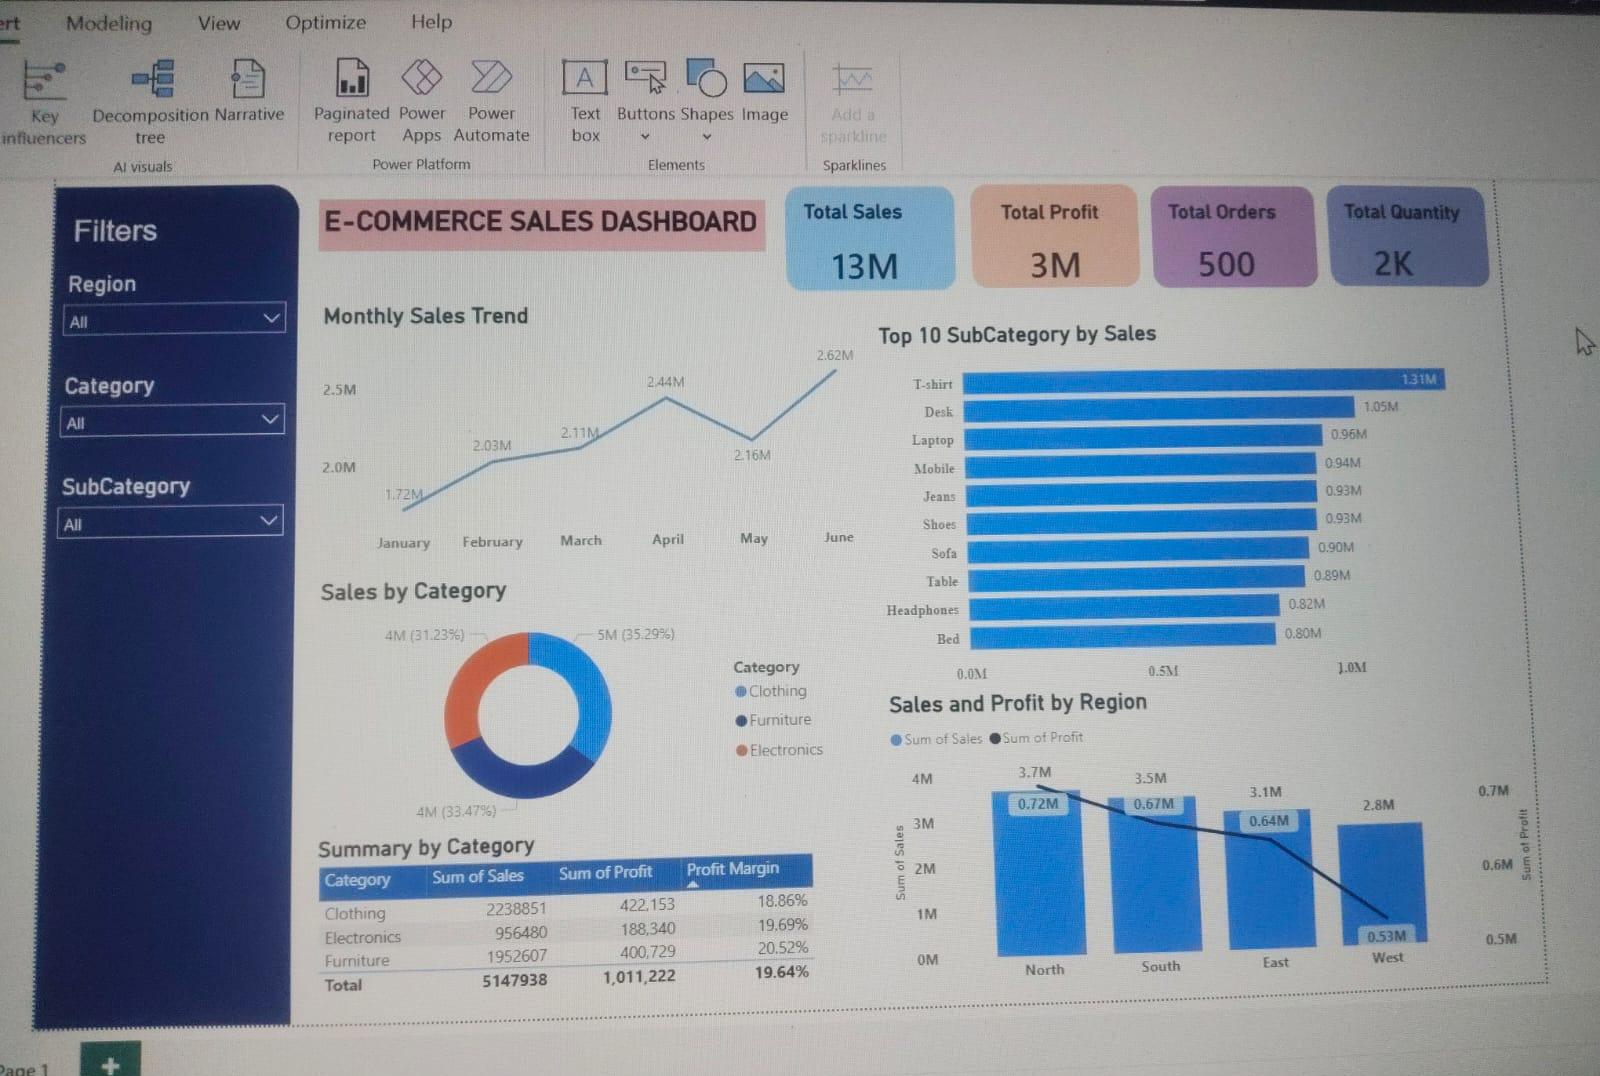

The dashboard page shown, as its layout file describes it:
{"tool":"powerbi","page":{"name":"Page 1","canvas":[1280,720],"ordinal":0},"visuals":[{"type":"shape","box":[0,8.5,211.1,711.2],"z":0},{"type":"textbox","box":[11.3,24.1,117.6,70.8],"z":1000},{"type":"slicer","fields":{"Values":["Ecommerce_Large_Dataset.Region"]},"box":[0,79.3,211.1,70.8],"z":2000},{"type":"slicer","fields":{"Values":["Ecommerce_Large_Dataset.Category"]},"box":[0,167.2,211.1,86.4],"z":3000},{"type":"slicer","fields":{"Values":["Ecommerce_Large_Dataset.SubCategory"]},"box":[0,253.6,211.1,86.4],"z":4000},{"type":"tableEx","title":"Summary by Category","fields":{"Values":["Ecommerce_Large_Dataset.Category","Sum(Ecommerce_Large_Dataset.Sales)","Sum(Ecommerce_Large_Dataset.Profit)","Ecommerce_Large_Dataset.Profit Margin"]},"box":[227.5,566.8,423.5,144.5],"z":5000},{"type":"donutChart","title":"Sales by Category","fields":{"Y":["Sum(Ecommerce_Large_Dataset.Sales)"],"Category":["Ecommerce_Large_Dataset.Category"]},"box":[227.5,351.9,441.1,214.9],"z":6000},{"type":"lineChart","title":"Monthly Sales Trend","fields":{"Y":["Sum(Ecommerce_Large_Dataset.Sales)"],"Category":["Ecommerce_Large_Dataset.Date.Variation.Date Hierarchy.Month"]},"box":[227.5,114.4,480.1,226.2],"z":7000},{"type":"lineStackedColumnComboChart","title":"Sales and Profit by Region","fields":{"Category":["Ecommerce_Large_Dataset.Region"],"Y":["Sum(Ecommerce_Large_Dataset.Sales)"],"Y2":["Sum(Ecommerce_Large_Dataset.Profit)"]},"box":[707.6,457.5,571.8,253.9],"z":8000},{"type":"clusteredBarChart","title":"Top 10 SubCategory by Sales","fields":{"Category":["Ecommerce_Large_Dataset.SubCategory"],"Y":["Sum(Ecommerce_Large_Dataset.Sales)"]},"box":[706.3,133.2,573.1,326.8],"z":9000},{"type":"shape","box":[630.9,10.1,150.8,94.3],"z":10000},{"type":"cardVisual","title":"Total Sales","fields":{"Data":["Sum(Ecommerce_Large_Dataset.Sales)"]},"box":[642.2,22.6,128.2,91.7],"z":11000},{"type":"shape","box":[795.5,8.8,150.8,94.3],"z":12000},{"type":"shape","box":[957.7,10.1,150.8,94.3],"z":13000},{"type":"cardVisual","title":"Total Profit","fields":{"Data":["Sum(Ecommerce_Large_Dataset.Profit)"]},"box":[818.2,23.9,128.2,90.5],"z":14000},{"type":"cardVisual","title":"Total Orders","fields":{"Data":["CountNonNull(Ecommerce_Large_Dataset.OrderID)"]},"box":[969,23.9,128.2,90.5],"z":15000},{"type":"textbox","box":[227.5,22.6,385.8,46.5],"z":16000},{"type":"shape","box":[1119.8,8.8,150.8,94.3],"z":17000},{"type":"cardVisual","title":"Total Quantity","fields":{"Data":["Sum(Ecommerce_Large_Dataset.Quantity)"]},"box":[1131.1,22.6,128.2,90.5],"z":18000}]}

Visuals, with their boxes on the page's 1280x720 design canvas (x1, y1, x2, y2). These are canvas units, not pixel positions in the 1600x1076 screenshot, which may show the page scaled, cropped or inside an application window:
shape: bbox(0, 8, 211, 720)
textbox: bbox(11, 24, 129, 95)
slicer - Ecommerce_Large_Dataset.Region: bbox(0, 79, 211, 150)
slicer - Ecommerce_Large_Dataset.Category: bbox(0, 167, 211, 254)
slicer - Ecommerce_Large_Dataset.SubCategory: bbox(0, 254, 211, 340)
"Summary by Category" tableEx: bbox(228, 567, 651, 711)
"Sales by Category" donutChart: bbox(228, 352, 669, 567)
"Monthly Sales Trend" lineChart: bbox(228, 114, 708, 341)
"Sales and Profit by Region" lineStackedColumnComboChart: bbox(708, 458, 1279, 711)
"Top 10 SubCategory by Sales" clusteredBarChart: bbox(706, 133, 1279, 460)
shape: bbox(631, 10, 782, 104)
"Total Sales" cardVisual: bbox(642, 23, 770, 114)
shape: bbox(796, 9, 946, 103)
shape: bbox(958, 10, 1108, 104)
"Total Profit" cardVisual: bbox(818, 24, 946, 114)
"Total Orders" cardVisual: bbox(969, 24, 1097, 114)
textbox: bbox(228, 23, 613, 69)
shape: bbox(1120, 9, 1271, 103)
"Total Quantity" cardVisual: bbox(1131, 23, 1259, 113)
